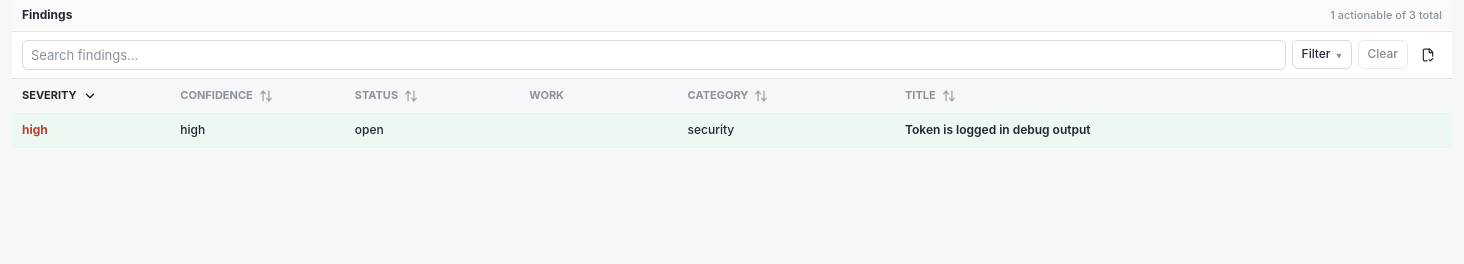
FindingsTable filters › allows viewing all statuses through the status filter
Click the heading "Filter" at [1322, 55], box [1292,40,1352,69]
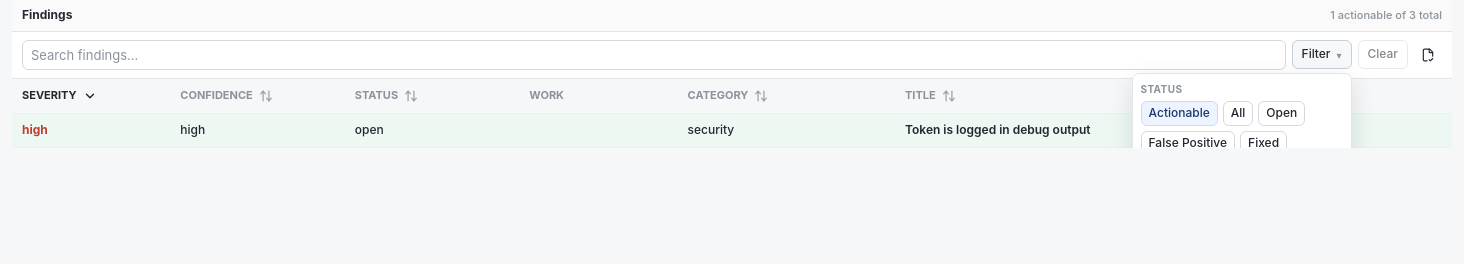
Check: the text "Status" is shown, box [1140,83,1182,95]
Check: the button "Actionable" is shown, box [1140,101,1218,126]
Check: the button "All" is shown
Click the button "All" at [1238, 114], box [1223,101,1253,126]
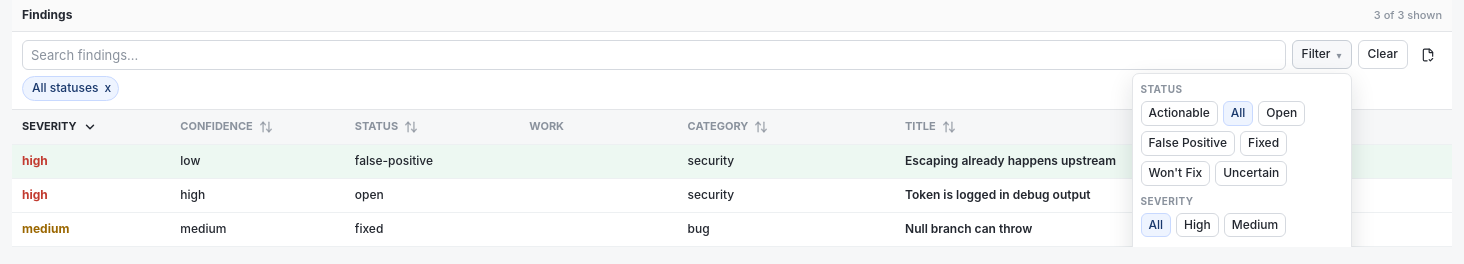
Check: the text "3 of 3 shown" is shown, box [1374,8,1442,23]
Check: the button with aria-label "Clear All statuses filter" is shown, box [22,76,119,101]
Check: the text "Null branch can throw" is shown, box [905,221,1032,236]
Click the button "Clear" at [1383, 55], box [1358,40,1408,69]
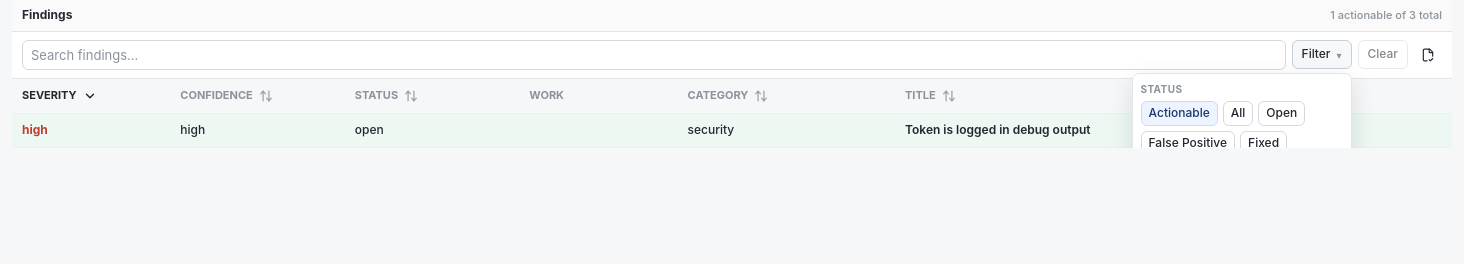
Check: the text "1 actionable of 3 total" is shown, box [1330,8,1442,23]
Check: the text "Escaping already happens upstream" is gone
